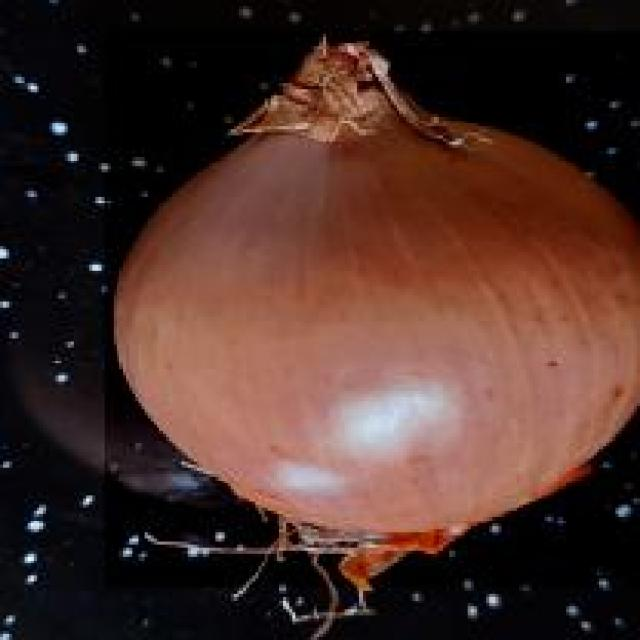onion: (108, 31, 640, 591)
